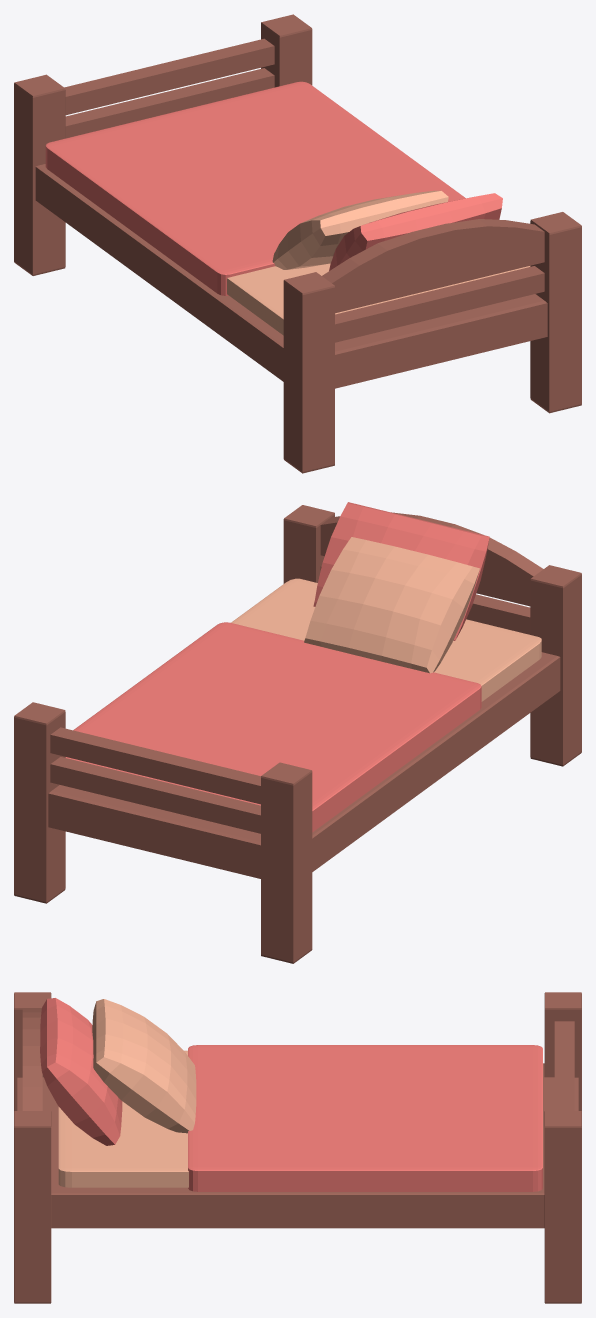
Rendered from Bed_1.glb.
3 views of the same model, one above another, from view 1: azimuth 30°, elevation 25°; view 2: azimuth 150°, elevation 25°; view 3: azimuth 270°, elevation 25° (orthographic).
Parts seen in each view (by area): view 1: Bed_1; view 2: Bed_1; view 3: Bed_1.
Part boxes in pixels (box(x1,y1,x2,y2)): Bed_1: box(14, 14, 581, 473); Bed_1: box(14, 502, 581, 963); Bed_1: box(14, 992, 581, 1303).
Bounding box in the file's own units: 2.55 × 1.87 × 4.56.
